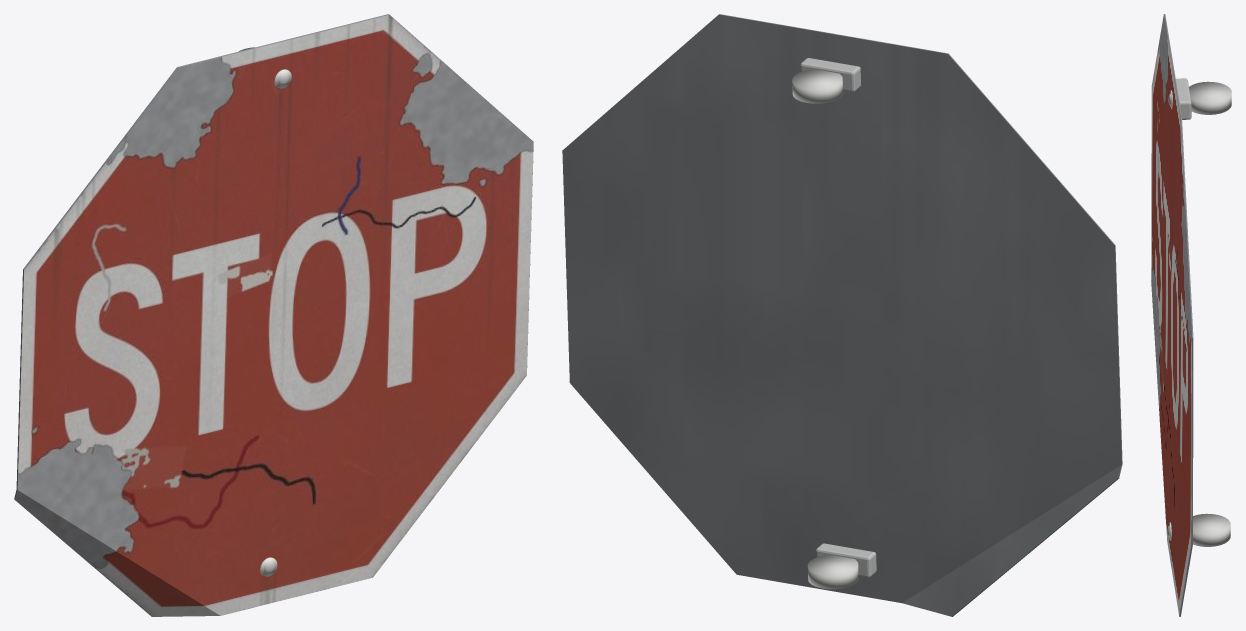
File: stop-v1-battered.glb
The picture shows the model from 3 angles, left to right: view 1: azimuth 30°, elevation 25°; view 2: azimuth 150°, elevation 25°; view 3: azimuth 270°, elevation 25°; orthographic projection. The views are drawn at different scales.
Visible parts, largest first — view 1: stop-v1-battered; view 2: stop-v1-battered; view 3: stop-v1-battered.
Boxes of the visible parts, x1,y1,x2,y2 form: stop-v1-battered: (14,14,533,616); stop-v1-battered: (562,14,1122,616); stop-v1-battered: (1151,14,1231,616).
Bounding box in the file's own units: 0.7693 × 0.7718 × 0.11.
Materials: 1 (1 with a texture image).
